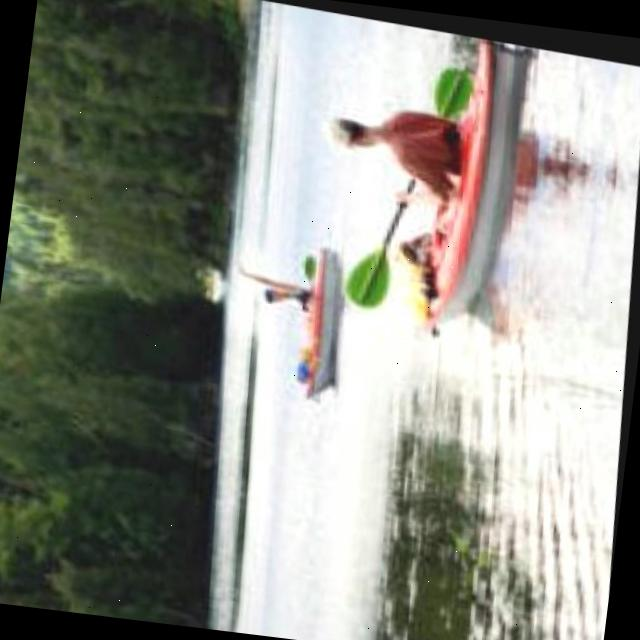kayak: (436, 33, 528, 322), (297, 242, 346, 393)
